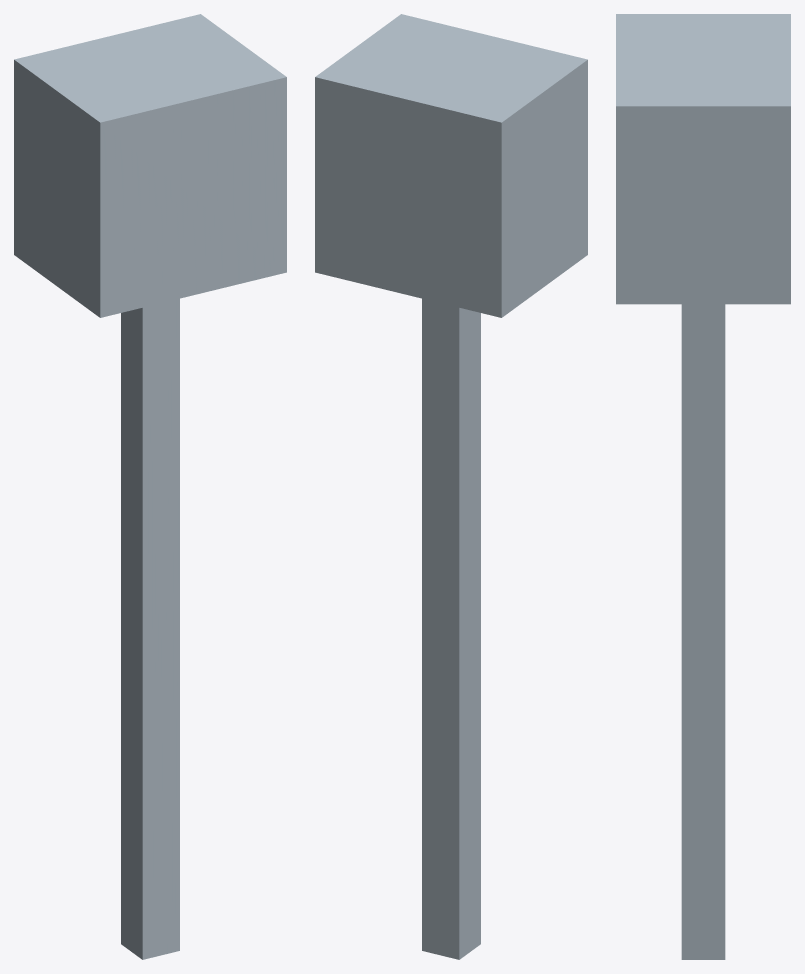
The model's file is shadow-lantern-low.glb.
The picture shows the model from 3 angles, left to right: view 1: azimuth 30°, elevation 25°; view 2: azimuth 150°, elevation 25°; view 3: azimuth 270°, elevation 25°; orthographic projection.
Size of the model in its own units: 20 by 90 by 16.
